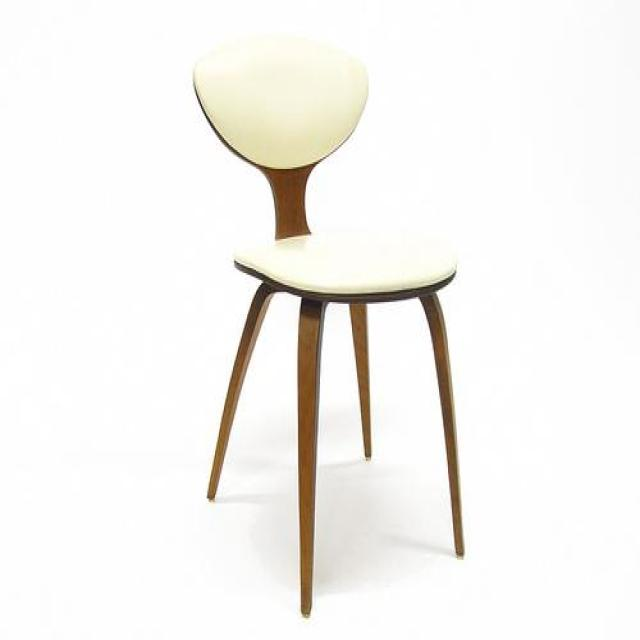chair: (191, 31, 466, 618)
